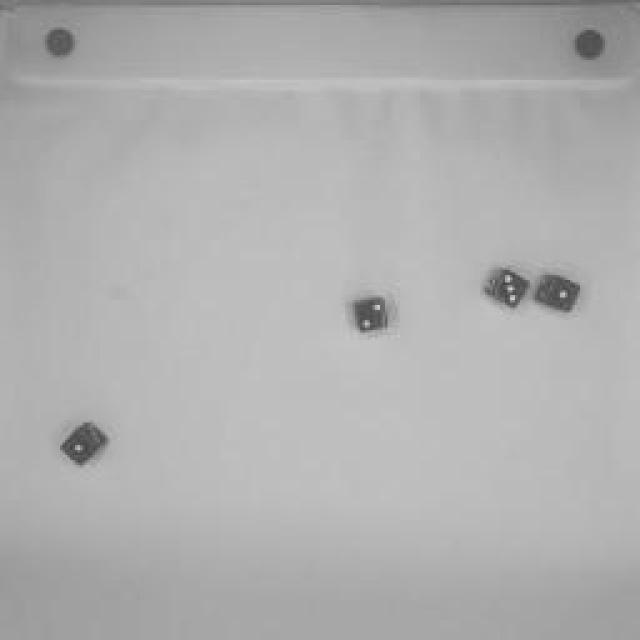dice_1: (58, 418, 112, 472), (532, 269, 586, 316)
dice_2: (346, 291, 396, 339)
dice_3: (480, 261, 530, 311)
